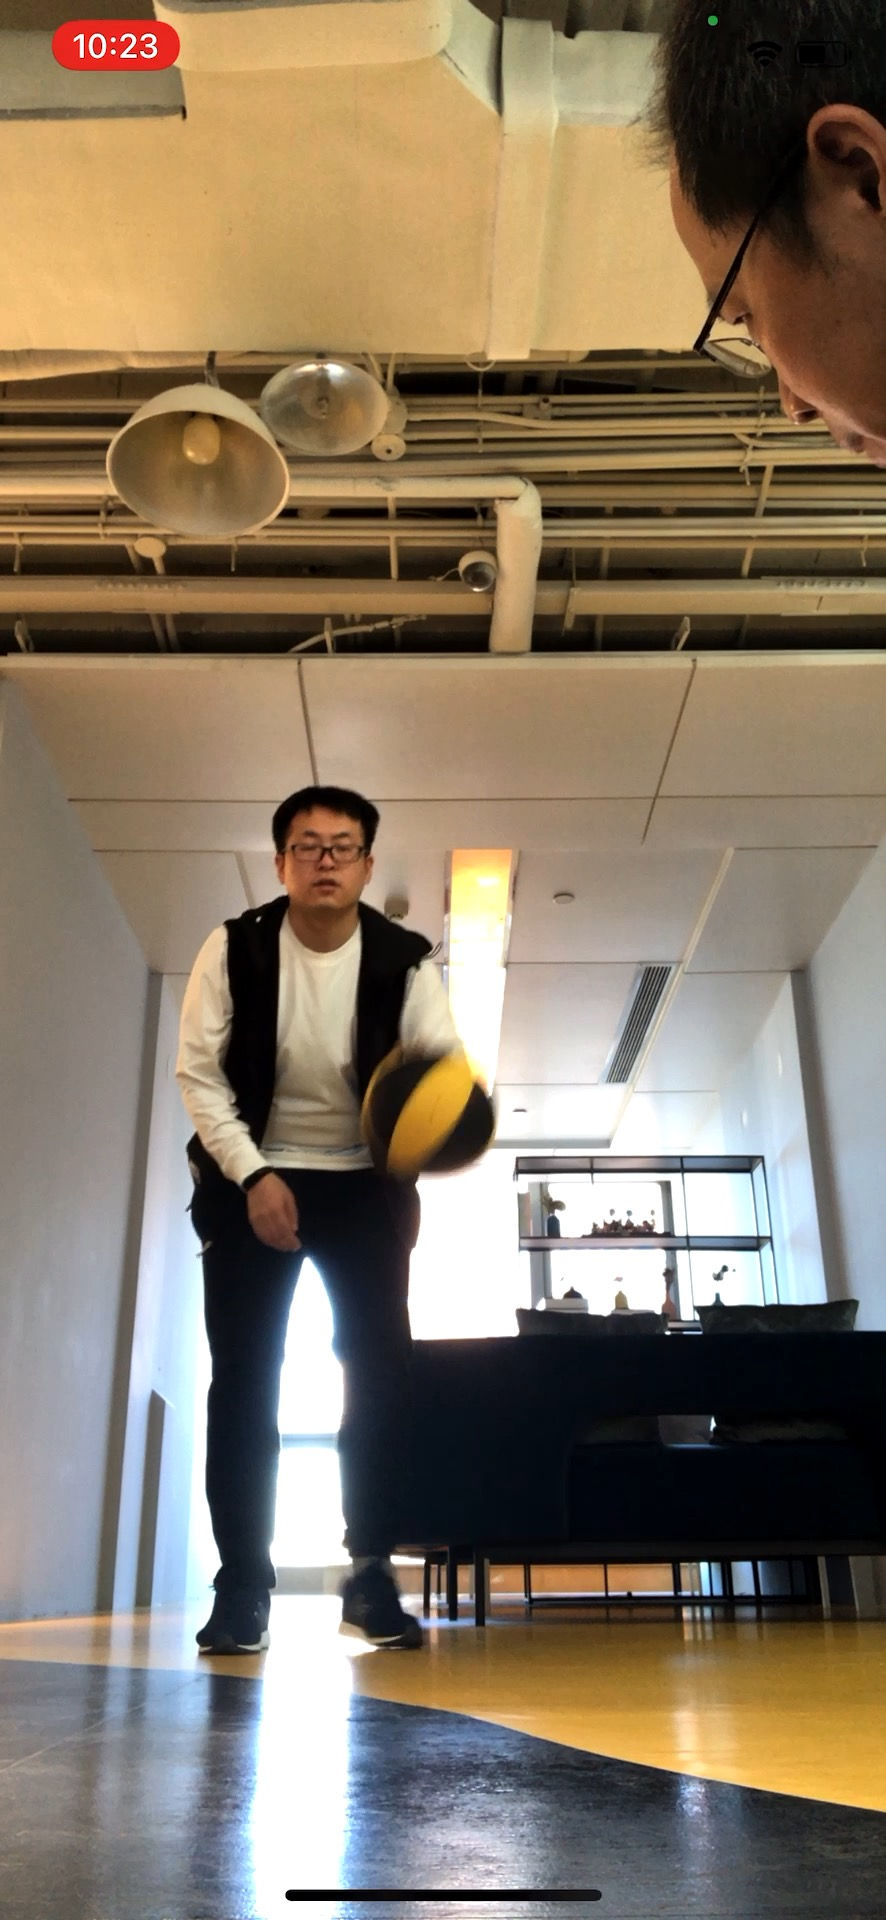ball: (357, 1047, 494, 1180)
